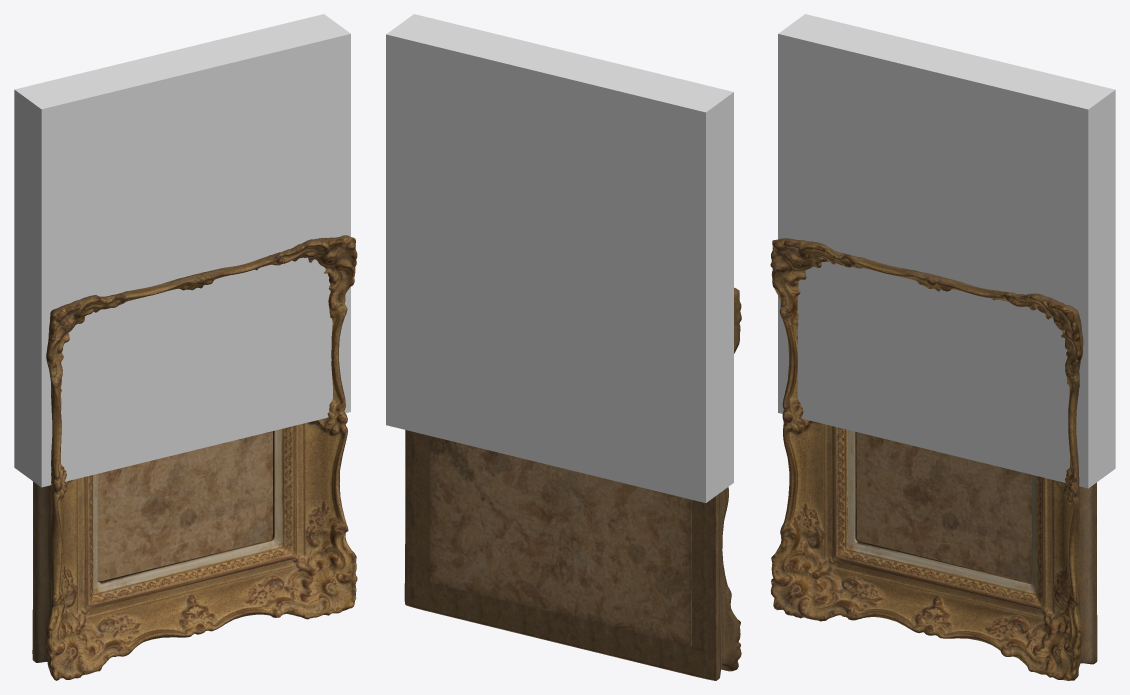
File: picture_frame.glb
The picture shows the model from 3 angles, left to right: view 1: azimuth 30°, elevation 25°; view 2: azimuth 150°, elevation 25°; view 3: azimuth 330°, elevation 25°; orthographic projection. The views are drawn at different scales.
Parts seen in each view (by area): view 1: fancy_picture_frame_02-col, fancy_picture_frame_02; view 2: fancy_picture_frame_02-col, fancy_picture_frame_02; view 3: fancy_picture_frame_02-col, fancy_picture_frame_02.
Part boxes in pixels (x1,y1,x2,y2): fancy_picture_frame_02-col: (14,14,350,487); fancy_picture_frame_02: (32,235,357,680); fancy_picture_frame_02-col: (386,14,733,502); fancy_picture_frame_02: (404,287,741,680); fancy_picture_frame_02-col: (778,14,1115,488); fancy_picture_frame_02: (770,238,1097,680).
Size of the model in its own units: 0.6625 by 1.16 by 0.1404.
Materials: 1 (1 with a texture image).
